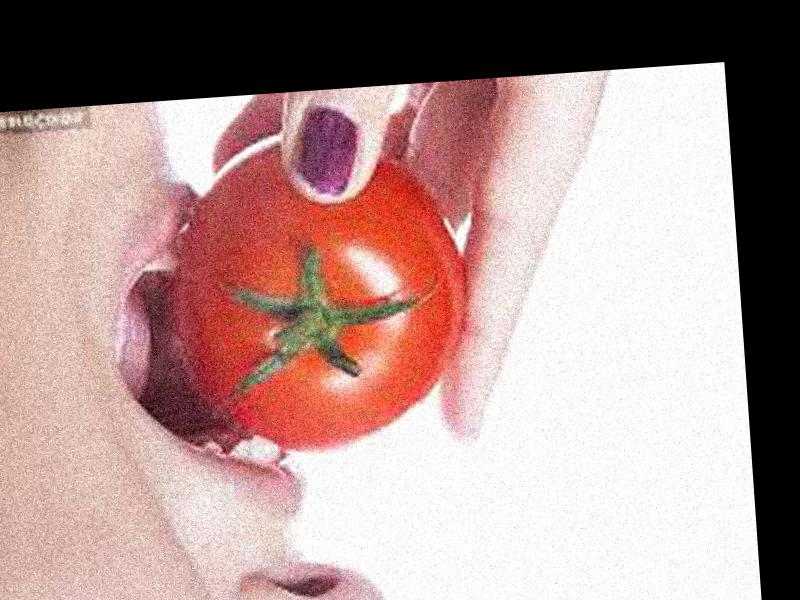Tomato: (166, 122, 477, 459)
